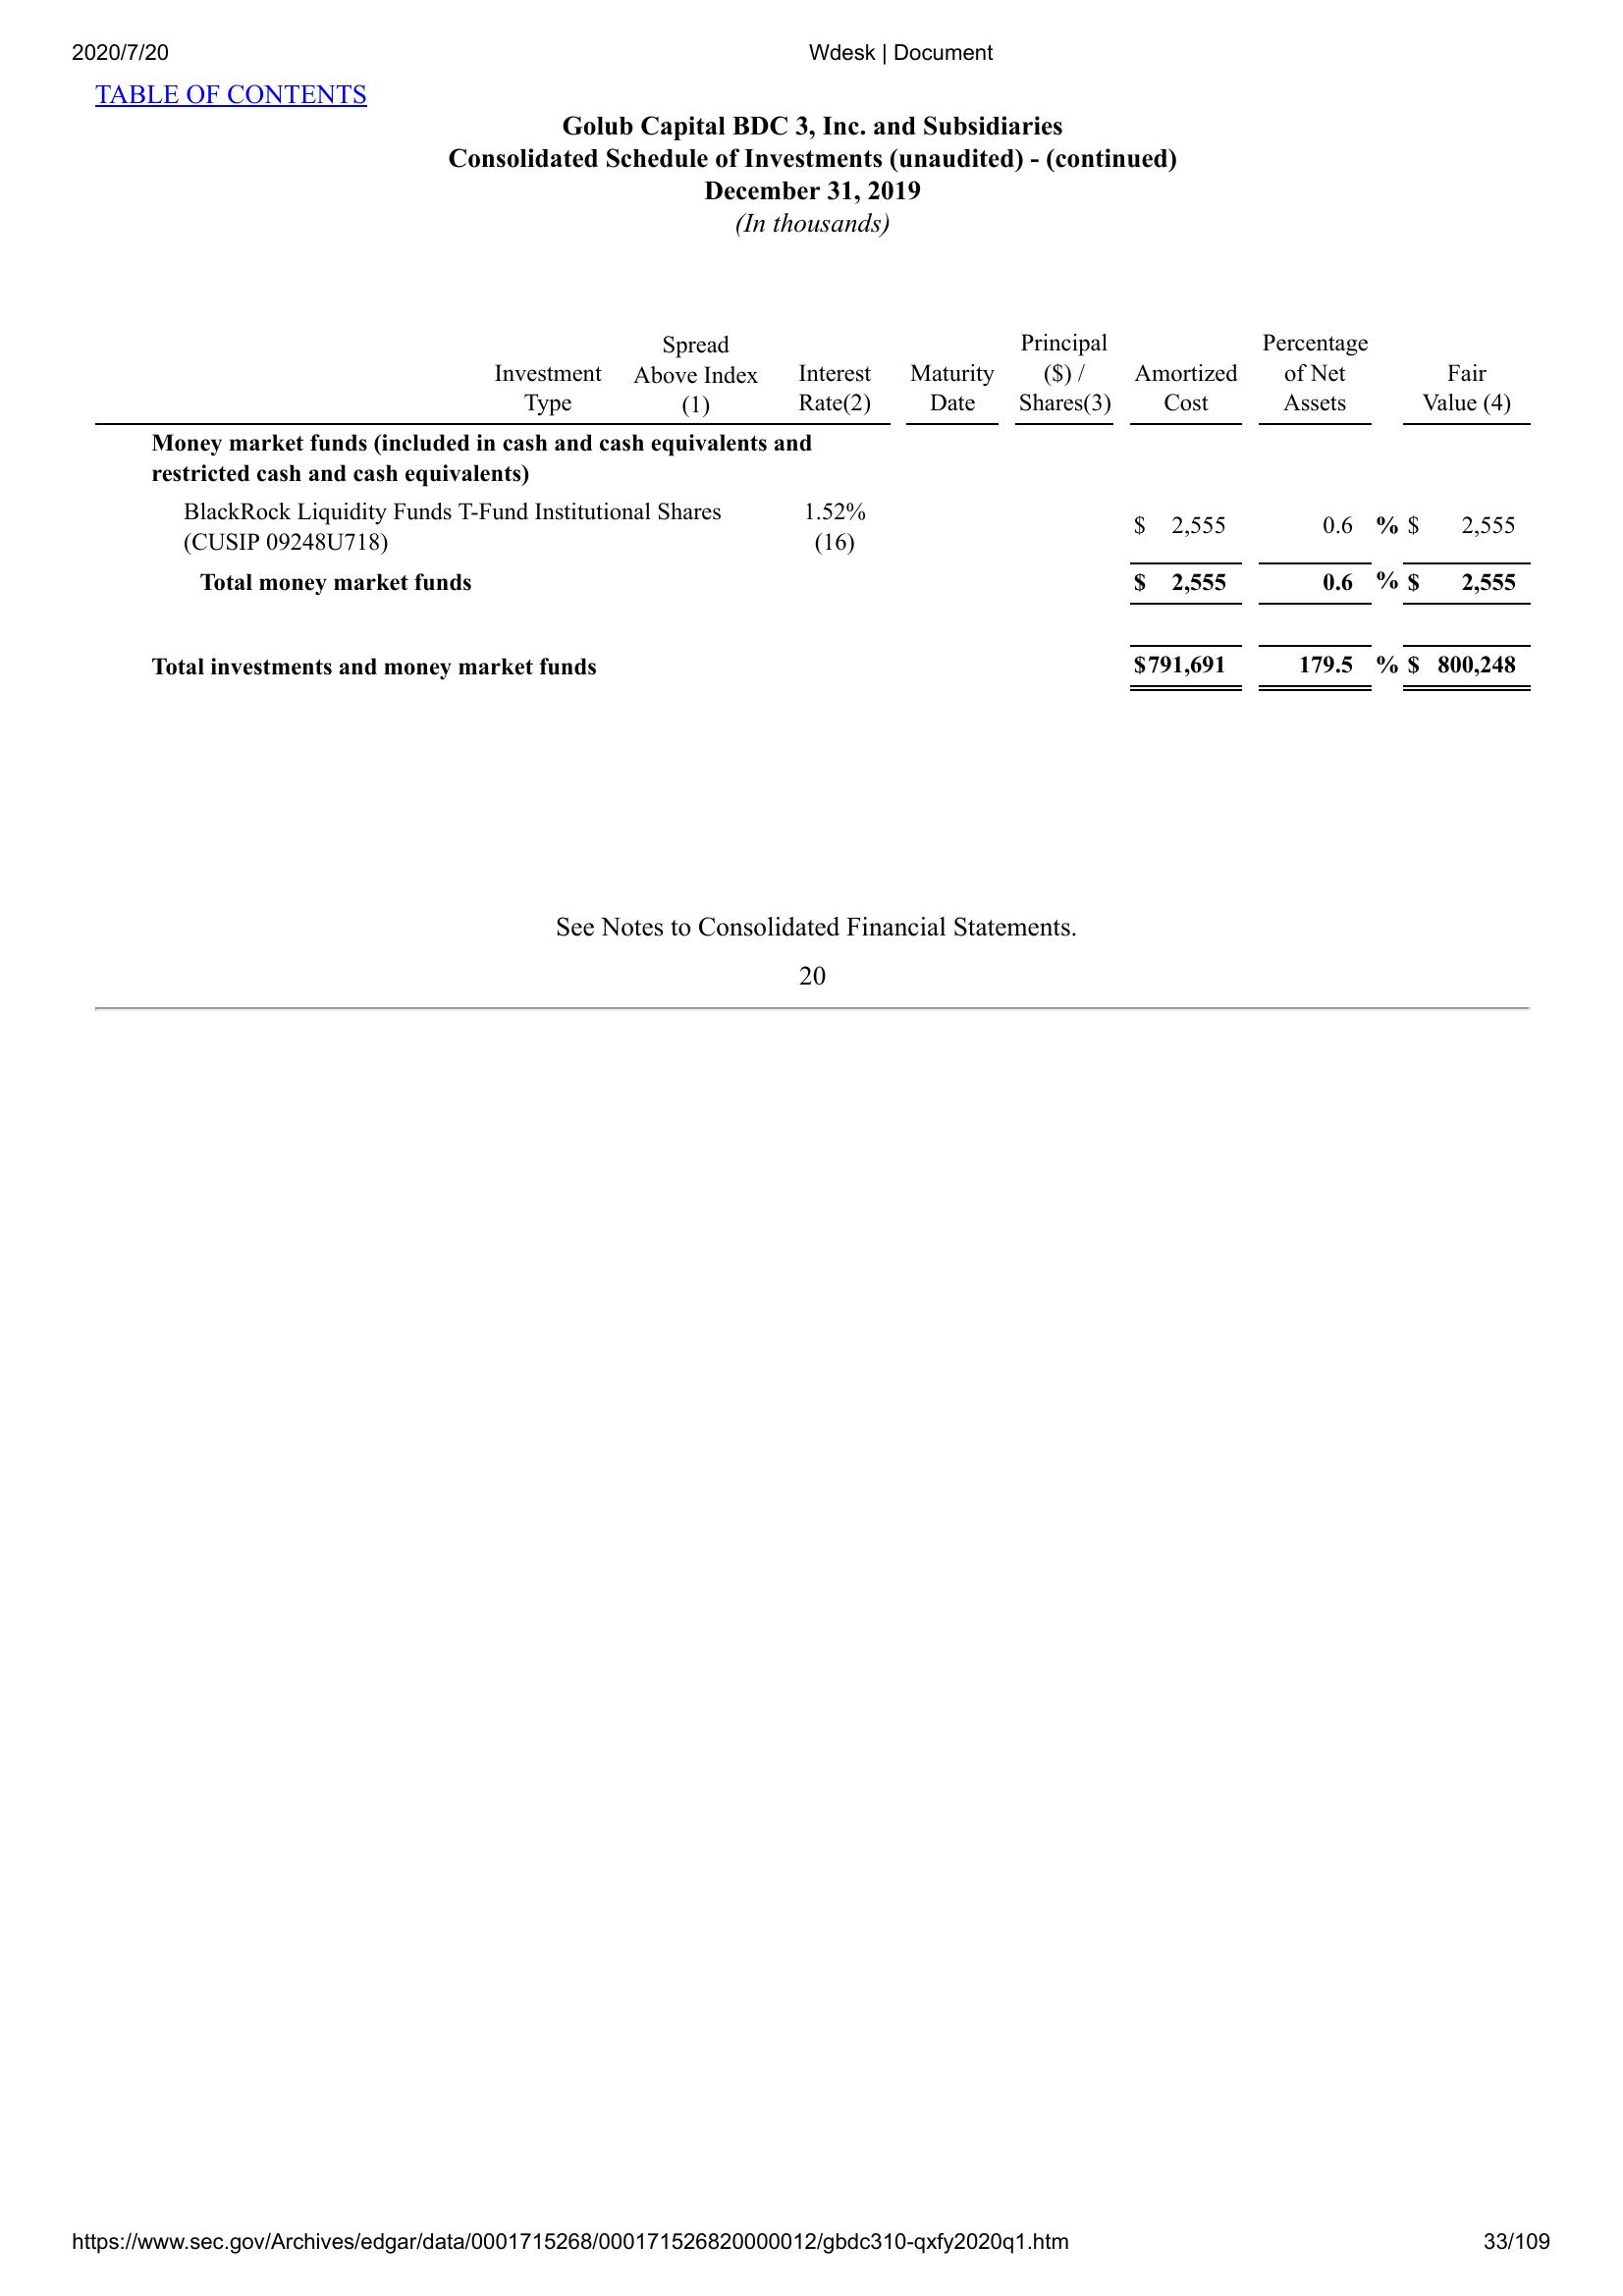table: (83, 328, 1540, 704)
